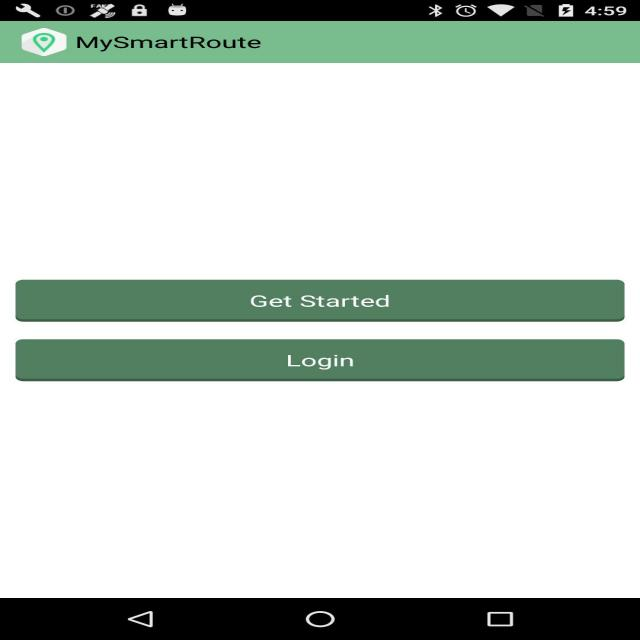button: (19, 279, 623, 324), (18, 338, 618, 382)
image: (0, 20, 637, 59)
text: (240, 286, 428, 316), (68, 29, 283, 55), (274, 350, 382, 373)
